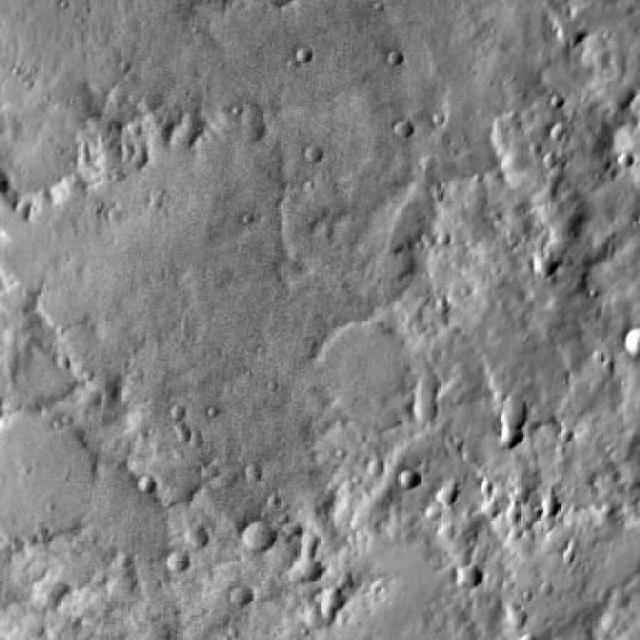crater: (0, 402, 108, 540), (309, 318, 416, 414), (240, 524, 274, 556), (497, 396, 528, 424), (139, 618, 175, 640), (411, 364, 440, 390), (289, 559, 317, 583), (620, 329, 640, 362), (180, 528, 206, 552), (496, 420, 522, 443), (320, 582, 345, 604), (455, 566, 480, 588), (224, 585, 248, 607), (412, 392, 436, 412), (537, 492, 560, 512), (166, 552, 188, 572), (435, 486, 457, 506), (507, 608, 533, 623), (398, 470, 418, 488), (310, 602, 330, 620), (306, 144, 325, 162), (291, 46, 311, 63), (261, 477, 279, 494), (135, 476, 154, 492), (496, 512, 513, 528), (316, 556, 332, 572), (396, 124, 412, 139)
